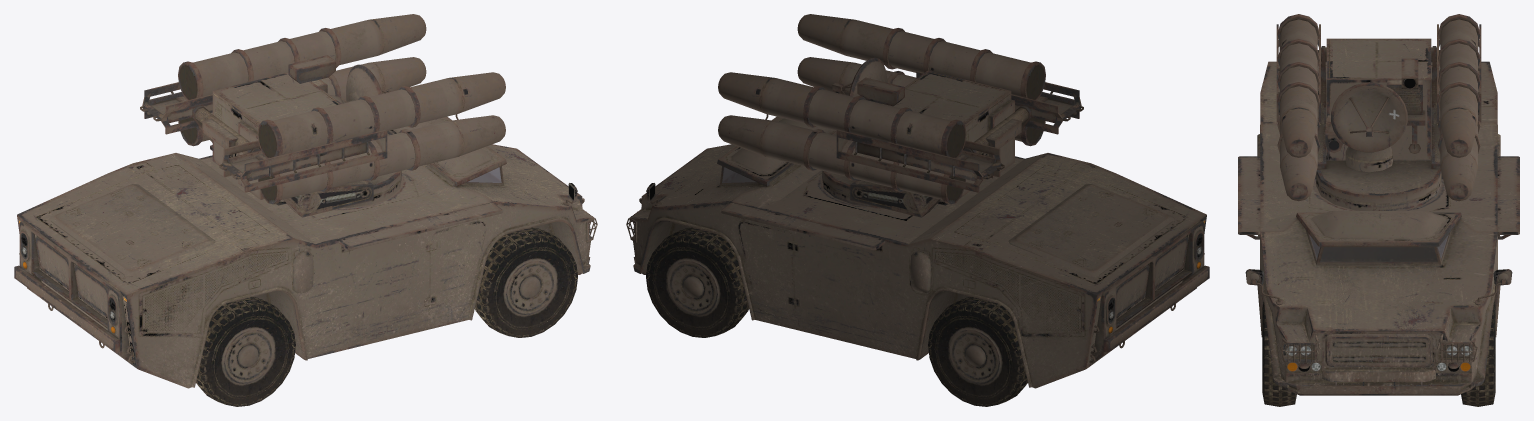
The model's file is cactus_sam_south_africa.glb.
The picture shows the model from 3 angles, left to right: view 1: azimuth 30°, elevation 25°; view 2: azimuth 150°, elevation 25°; view 3: azimuth 270°, elevation 25°; orthographic projection.
Visible parts, largest first — view 1: mesh_285_mat_9_0; view 2: mesh_285_mat_9_0; view 3: mesh_285_mat_9_0, mesh_286_mat_10_0.
Part boxes in pixels (x1,y1,x2,y2): mesh_285_mat_9_0: [14, 14, 597, 406]; mesh_285_mat_9_0: [626, 14, 1209, 406]; mesh_285_mat_9_0: [1238, 14, 1519, 406]; mesh_286_mat_10_0: [1309, 235, 1448, 262].
Size of the model in its own units: 68.29 by 35.32 by 33.83.
Materials: 2 (2 with a texture image).
